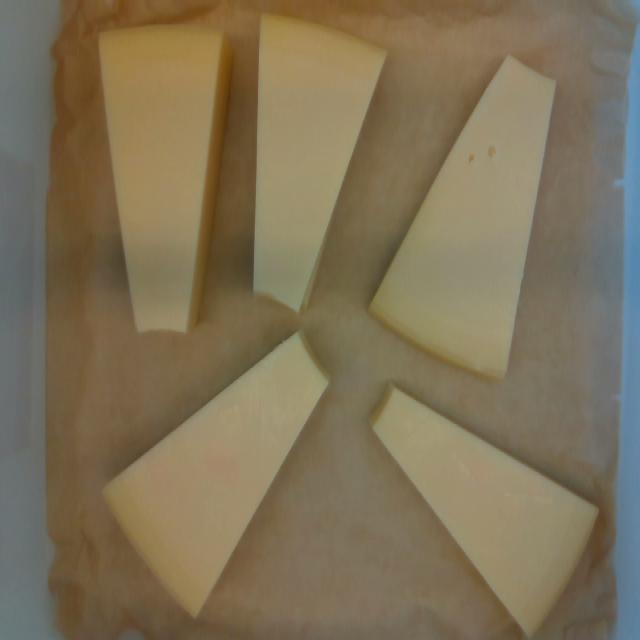Cheese: (105, 335, 326, 615), (370, 59, 553, 375), (373, 388, 594, 635), (98, 26, 225, 335), (254, 17, 384, 309)
